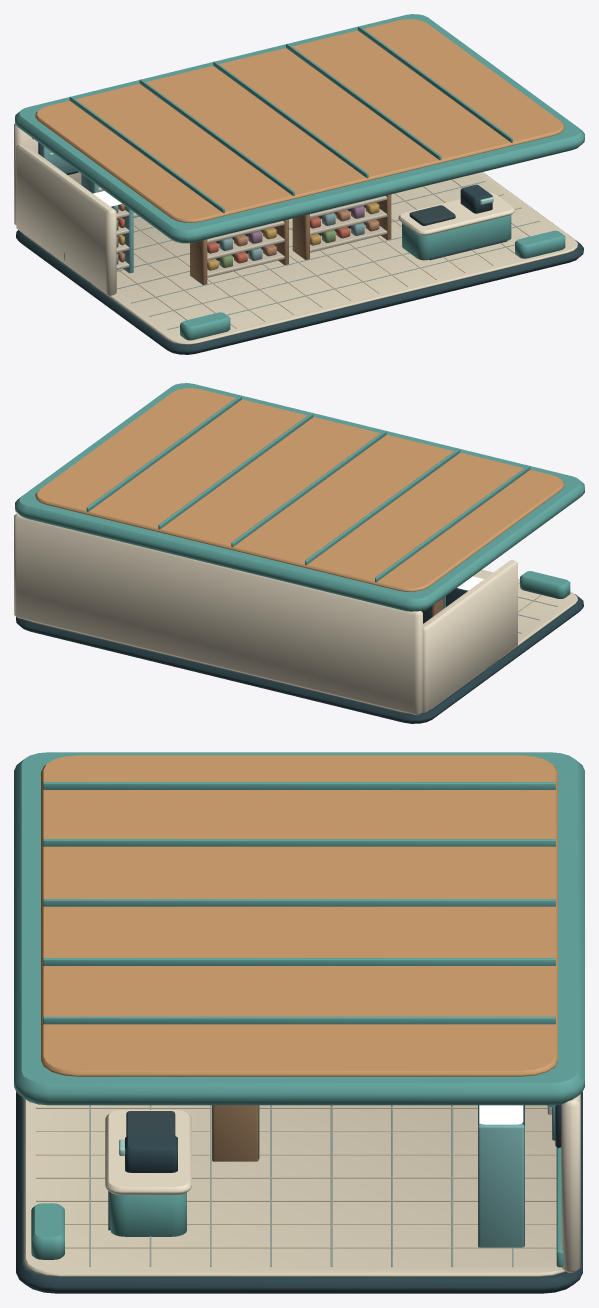
The model's file is market.glb.
The picture shows the model from 3 angles, top to bottom: view 1: azimuth 30°, elevation 25°; view 2: azimuth 150°, elevation 25°; view 3: azimuth 270°, elevation 25°; orthographic projection. The views are drawn at different scales.
Parts seen in each view (by area): view 1: Roof, Room; view 2: Roof, Room; view 3: Roof, Room.
Part boxes in pixels (x1,y1,x2,y2): Roof: (15, 14, 584, 243); Room: (14, 124, 583, 354); Roof: (15, 383, 584, 611); Room: (14, 513, 583, 723); Roof: (14, 752, 584, 1105); Room: (16, 1092, 582, 1293).
Size of the model in its own units: 11.5 by 3.48 by 8.18.
